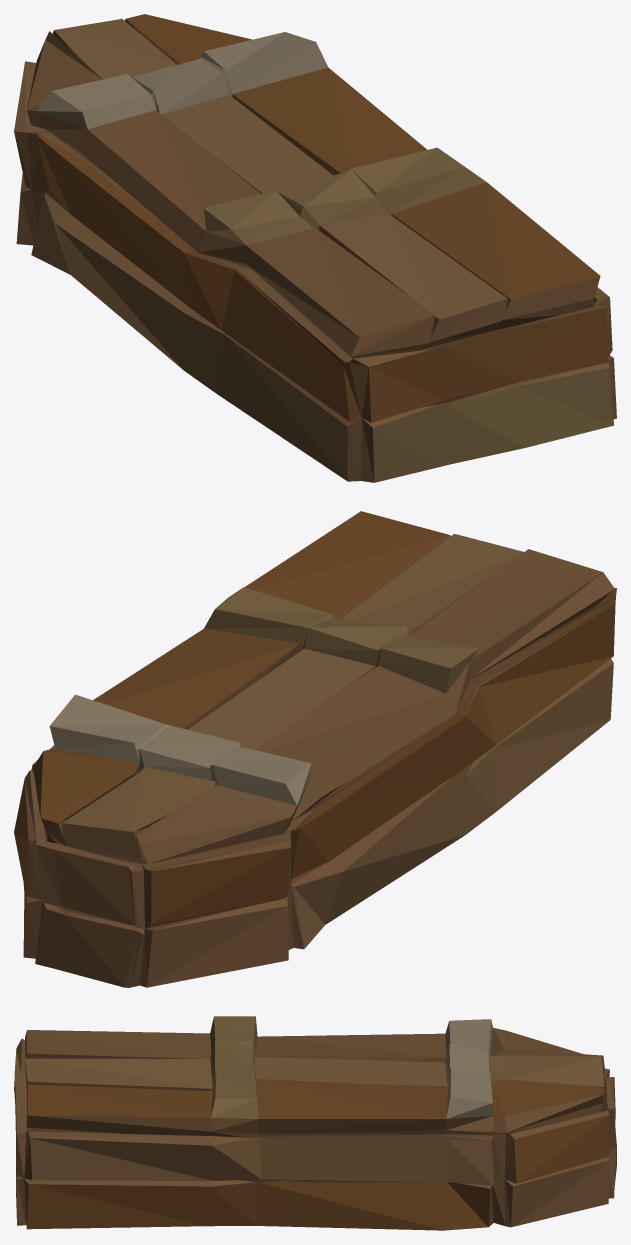
The model's file is RG-Dungeon_Coffin.fbx.
The picture shows the model from 3 angles, top to bottom: view 1: azimuth 30°, elevation 25°; view 2: azimuth 150°, elevation 25°; view 3: azimuth 270°, elevation 25°; orthographic projection. The views are drawn at different scales.
Visible parts, largest first — view 1: RG-Dungeon_Coffin; view 2: RG-Dungeon_Coffin; view 3: RG-Dungeon_Coffin.
Part boxes in pixels (x1=…): RG-Dungeon_Coffin: x1=14, y1=14, x2=616, y2=482; RG-Dungeon_Coffin: x1=14, y1=511, x2=616, y2=987; RG-Dungeon_Coffin: x1=14, y1=1016, x2=616, y2=1230.
Bounding box in the file's own units: 6.25 × 3.53 × 15.18.
